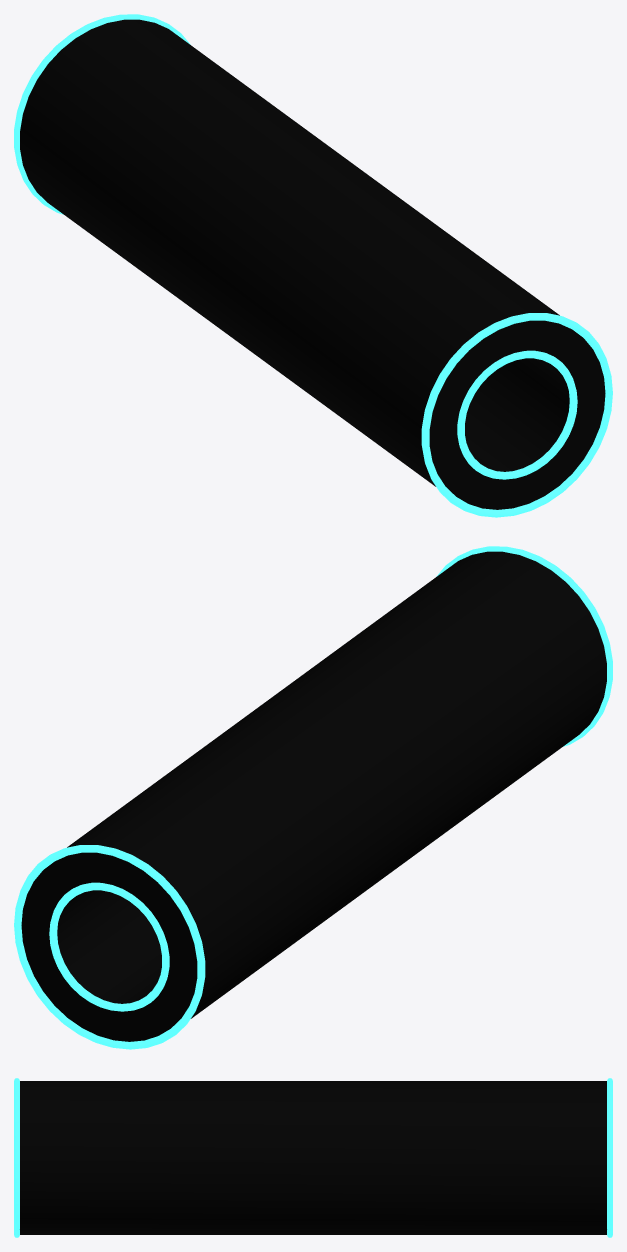
The model's file is Tunel.fbx.
3 renders of one model, top to bottom at view 1: azimuth 30°, elevation 25°; view 2: azimuth 150°, elevation 25°; view 3: azimuth 270°, elevation 25°, orthographic. The views are drawn at different scales.
Parts seen in each view (by area): view 1: Tube, Tube_1; view 2: Tube, Tube_1; view 3: Tube, Tube_1.
Boxes of the visible parts, x1=… form: Tube: x1=20, y1=19, x2=605, y2=509; Tube_1: x1=14, y1=14, x2=612, y2=517; Tube: x1=21, y1=551, x2=606, y2=1041; Tube_1: x1=14, y1=546, x2=612, y2=1049; Tube: x1=20, y1=1081, x2=606, y2=1234; Tube_1: x1=14, y1=1078, x2=612, y2=1237.
Size of the model in its own units: 53.9 by 53.95 by 202.
